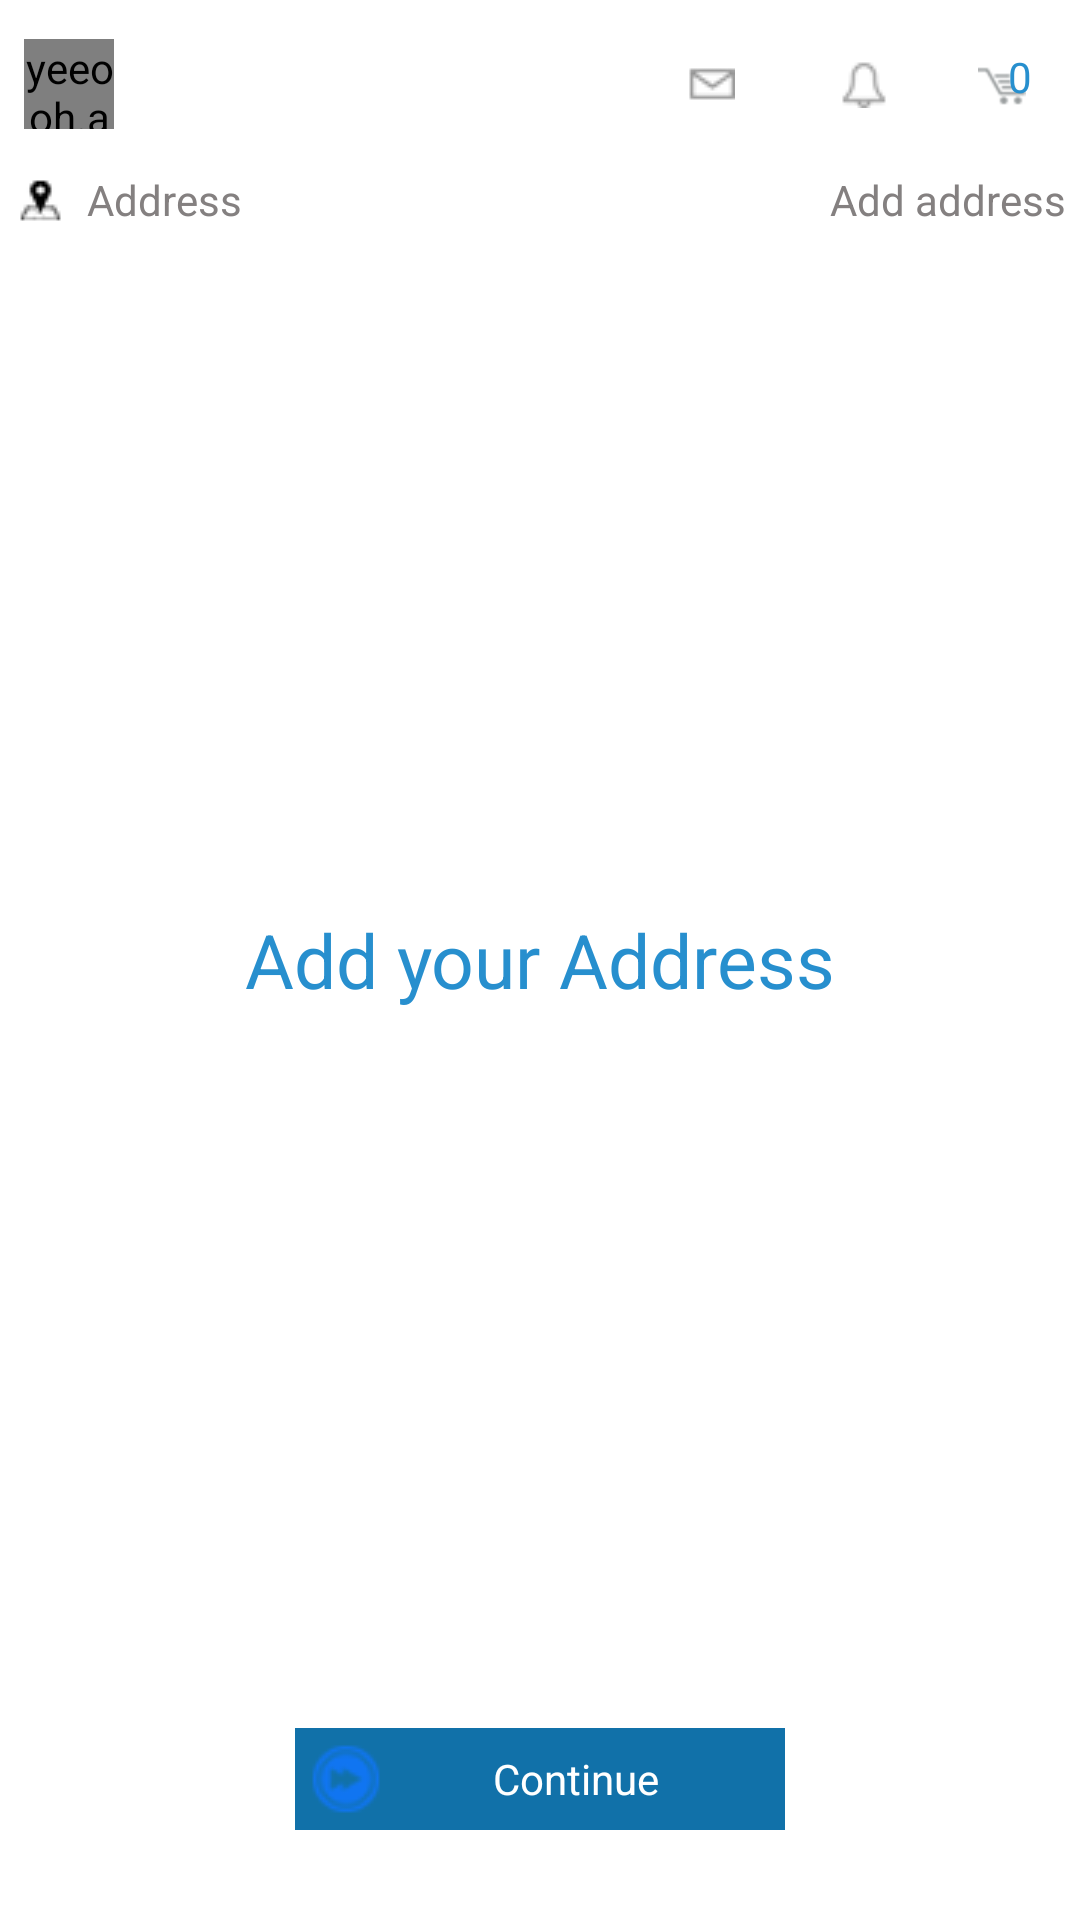

Screen size 1080×1920. Icon name, then its box in pixels as (x1=x1, y1=y1, x2=x2, y2=y2):
cart: (x1=978, y1=62, x2=1026, y2=104)
inbox: (x1=689, y1=68, x2=735, y2=100)
notifications: (x1=842, y1=62, x2=886, y2=108)
